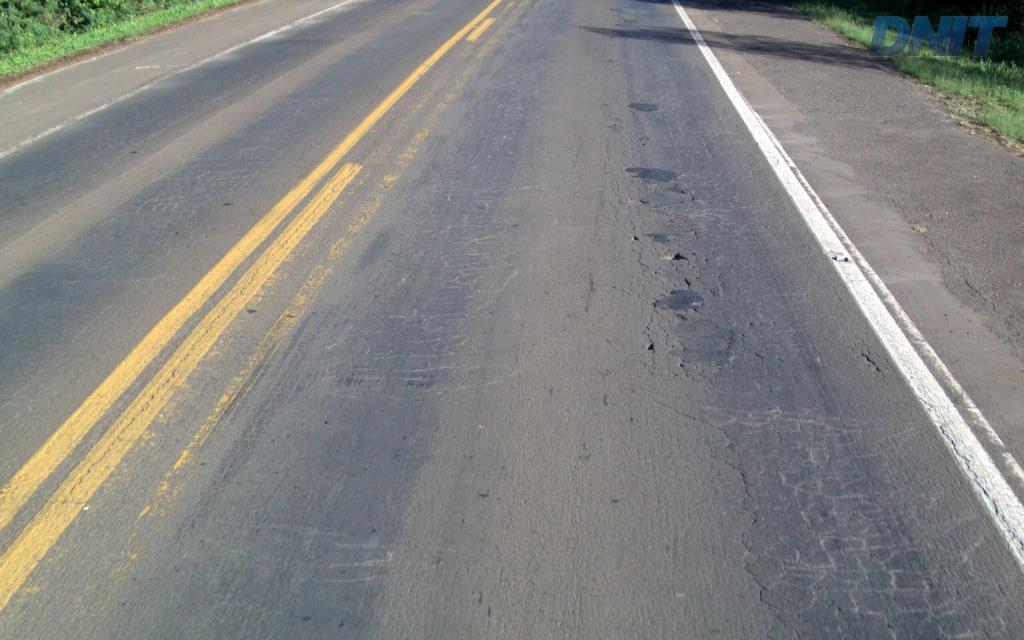pothole: (664, 248, 686, 261), (622, 196, 647, 206), (681, 275, 693, 287), (632, 236, 640, 240)
